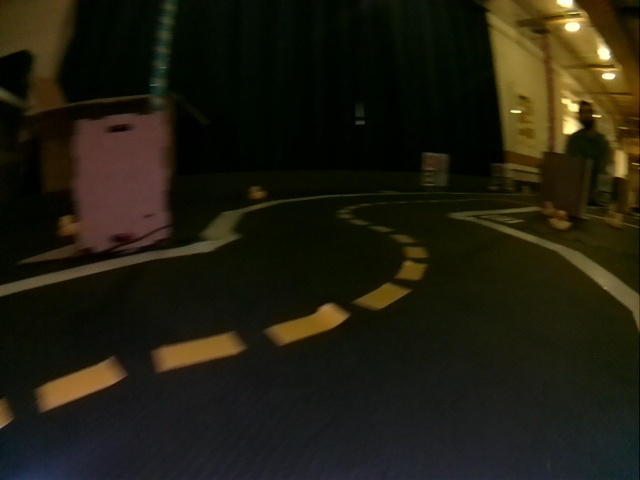Duckie: (549, 211, 570, 229), (59, 216, 76, 236), (248, 186, 267, 199), (540, 201, 555, 215)
QR code: (423, 170, 436, 184)
